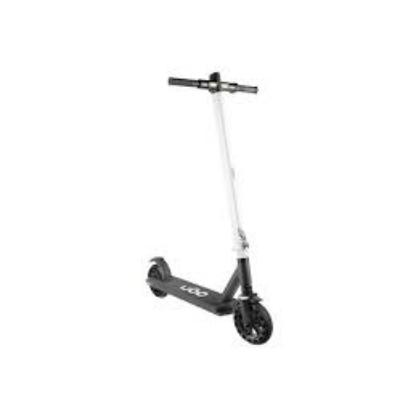bike: (145, 70, 275, 346)
